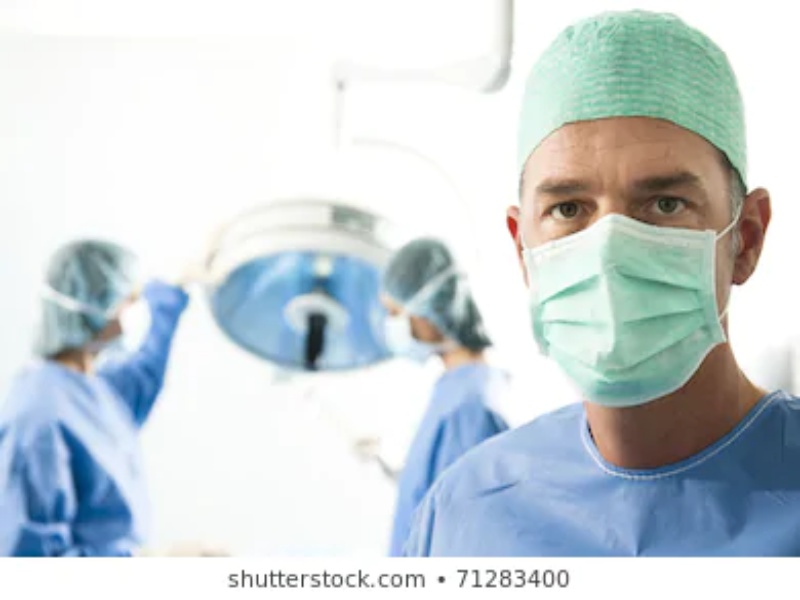ManaoArotava: (490, 74, 777, 418)
